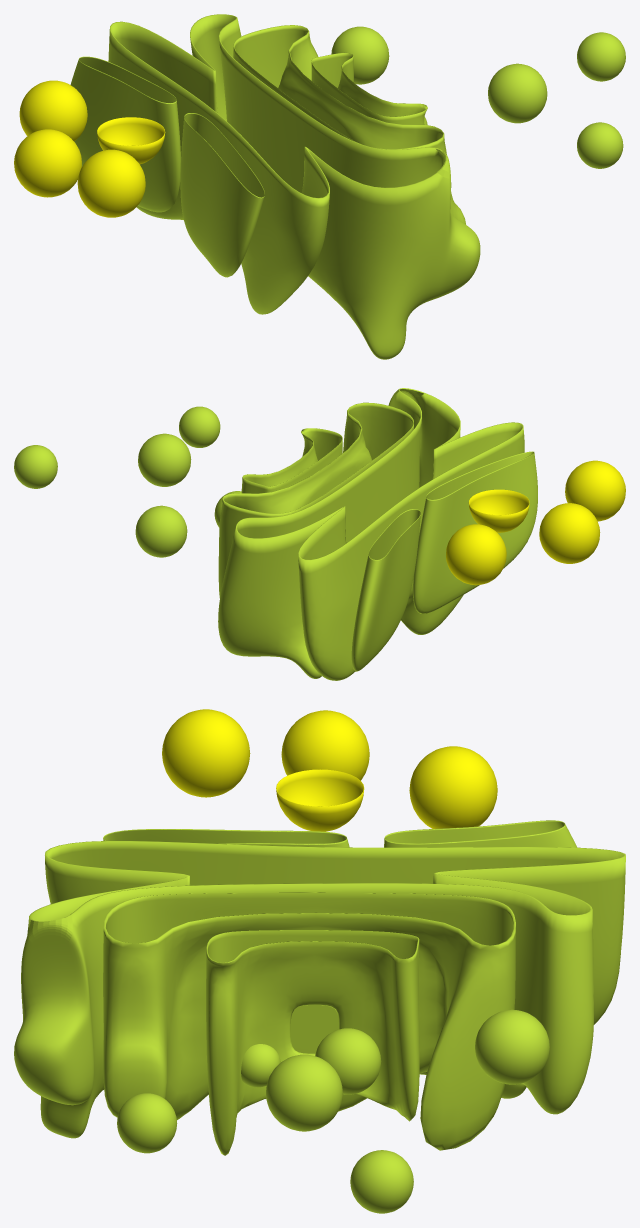
The model's file is Complexo de Golgi v3.glb.
3 renders of one model, top to bottom at view 1: azimuth 30°, elevation 25°; view 2: azimuth 150°, elevation 25°; view 3: azimuth 270°, elevation 25°, orthographic. The views are drawn at different scales.
Parts seen in each view (by area): view 1: Cube, Cube.003, Sphere.008, Cube.002, Sphere.015, Cube.001, Sphere.006; view 2: Cube, Cube.003, Sphere.008, Cube.002, Sphere.015, Cube.001, Sphere.006; view 3: Cube, Cube.002, Cube.001, Sphere.015, Sphere.008, Cube.003, Sphere.006, Sphere.013.
Boxes of the visible parts, x1,y1,x2,y2 form: Cube: [108, 14, 480, 359]; Cube.003: [70, 56, 264, 277]; Sphere.008: [14, 80, 145, 217]; Cube.002: [233, 25, 465, 224]; Sphere.015: [331, 26, 625, 168]; Cube.001: [311, 52, 427, 124]; Sphere.006: [97, 117, 165, 164]; Cube: [218, 388, 524, 680]; Cube.003: [351, 451, 537, 671]; Sphere.008: [446, 460, 625, 585]; Cube.002: [218, 402, 413, 597]; Sphere.015: [14, 406, 241, 557]; Cube.001: [241, 428, 342, 493]; Sphere.006: [468, 489, 529, 532]; Cube: [14, 841, 625, 1138]; Cube.002: [103, 892, 515, 1150]; Cube.001: [206, 930, 419, 1155]; Sphere.015: [117, 1009, 549, 1213]; Sphere.008: [162, 709, 497, 828]; Cube.003: [103, 820, 577, 847]; Sphere.006: [276, 769, 364, 831]; Sphere.013: [241, 1044, 280, 1087].
Bounding box in the file's own units: 41.47 × 13.67 × 27.16.
